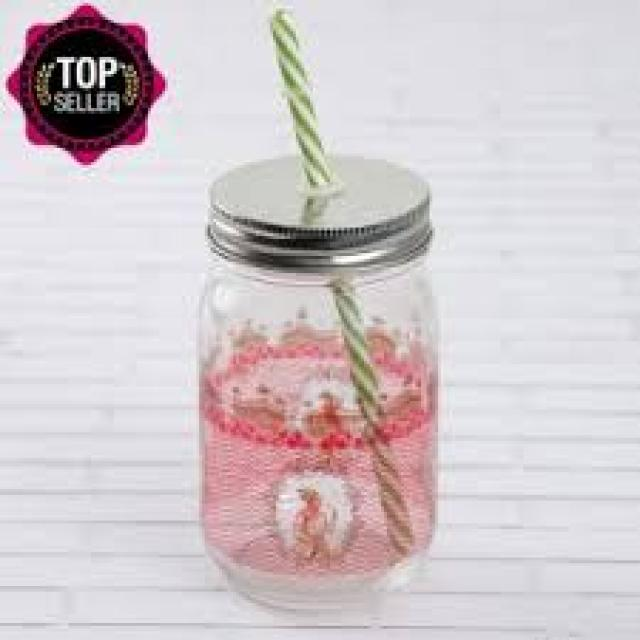glass: (199, 253, 438, 617)
metal: (202, 154, 424, 265)
